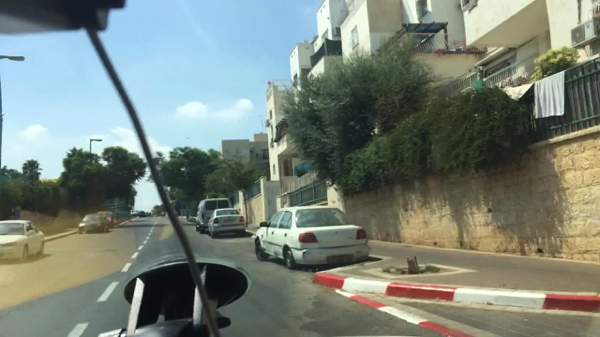car: (254, 204, 370, 273), (0, 220, 45, 264), (196, 198, 233, 234), (207, 207, 246, 239), (78, 213, 110, 235), (97, 211, 117, 228), (187, 215, 197, 226), (178, 216, 188, 225), (130, 209, 140, 217), (140, 211, 147, 218), (160, 212, 168, 217), (154, 213, 159, 219)
